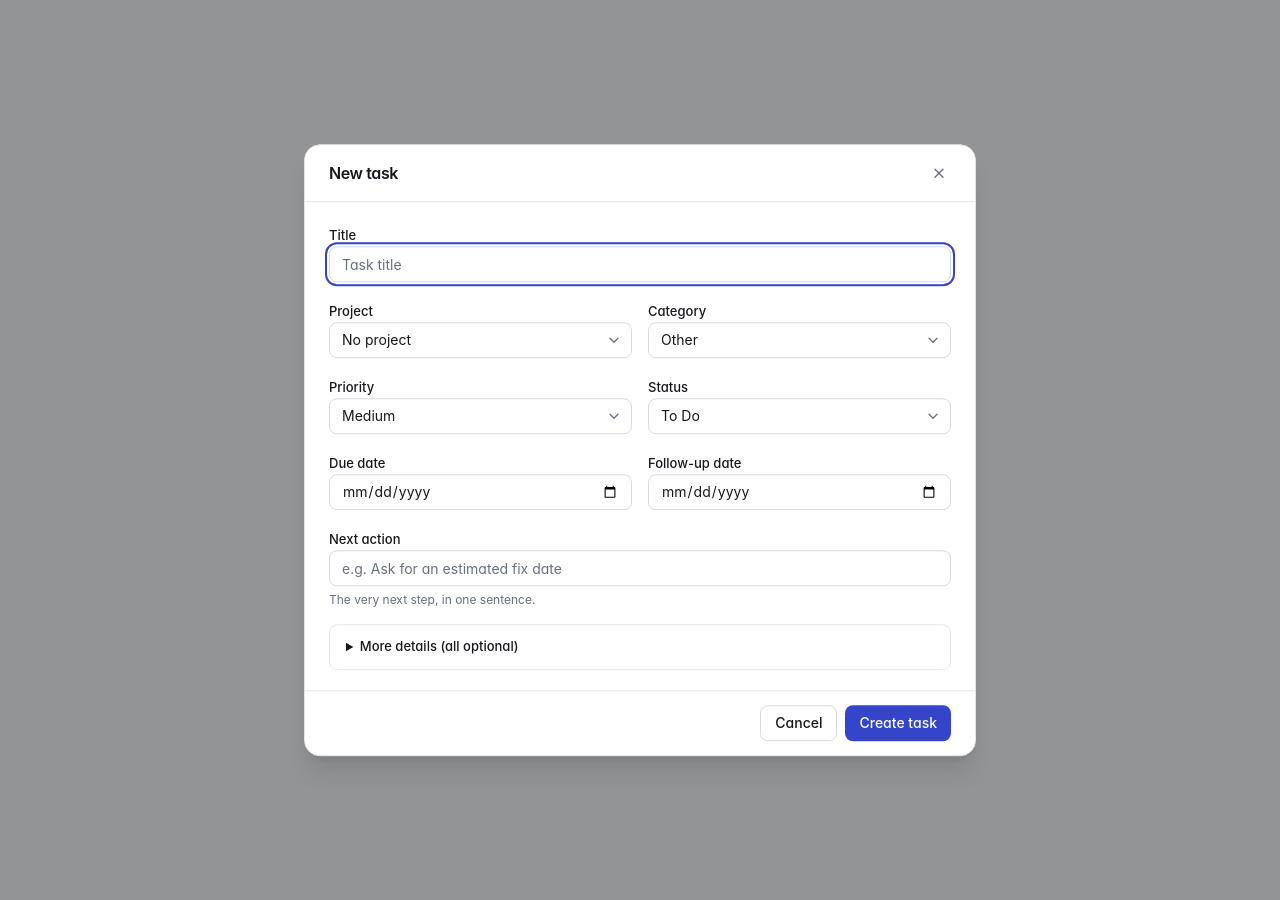
Scenario: TaskFormDialog › requires a blocker description when status is Blocked
The image size is (1280, 900).
Step 1. Type "Vendor compliance" into the field labelled "Title" → (640, 264), box [329,246,951,282]
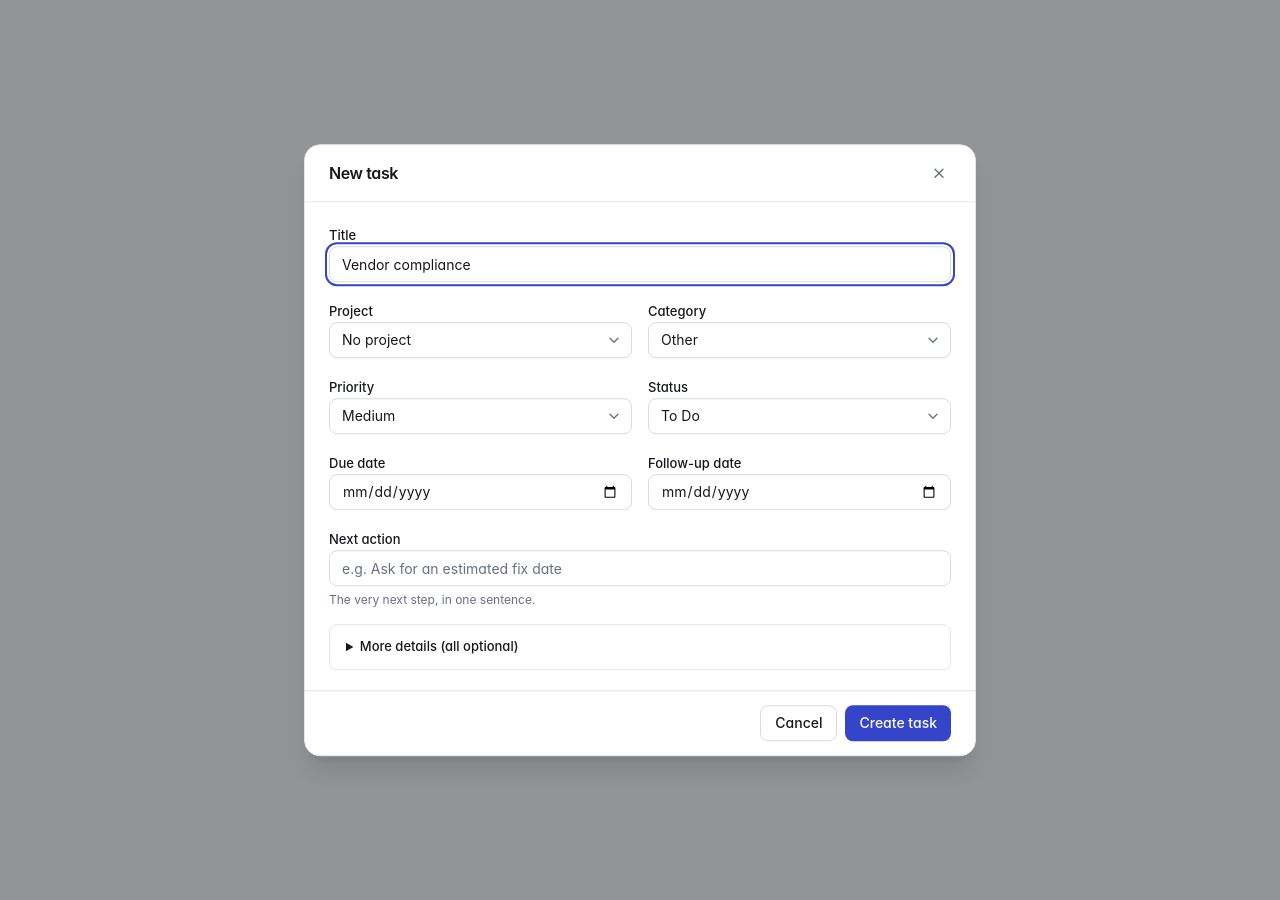
Step 2. Select "Blocked" in the dropdown labelled "Status" → (800, 416), box [648,398,951,434]
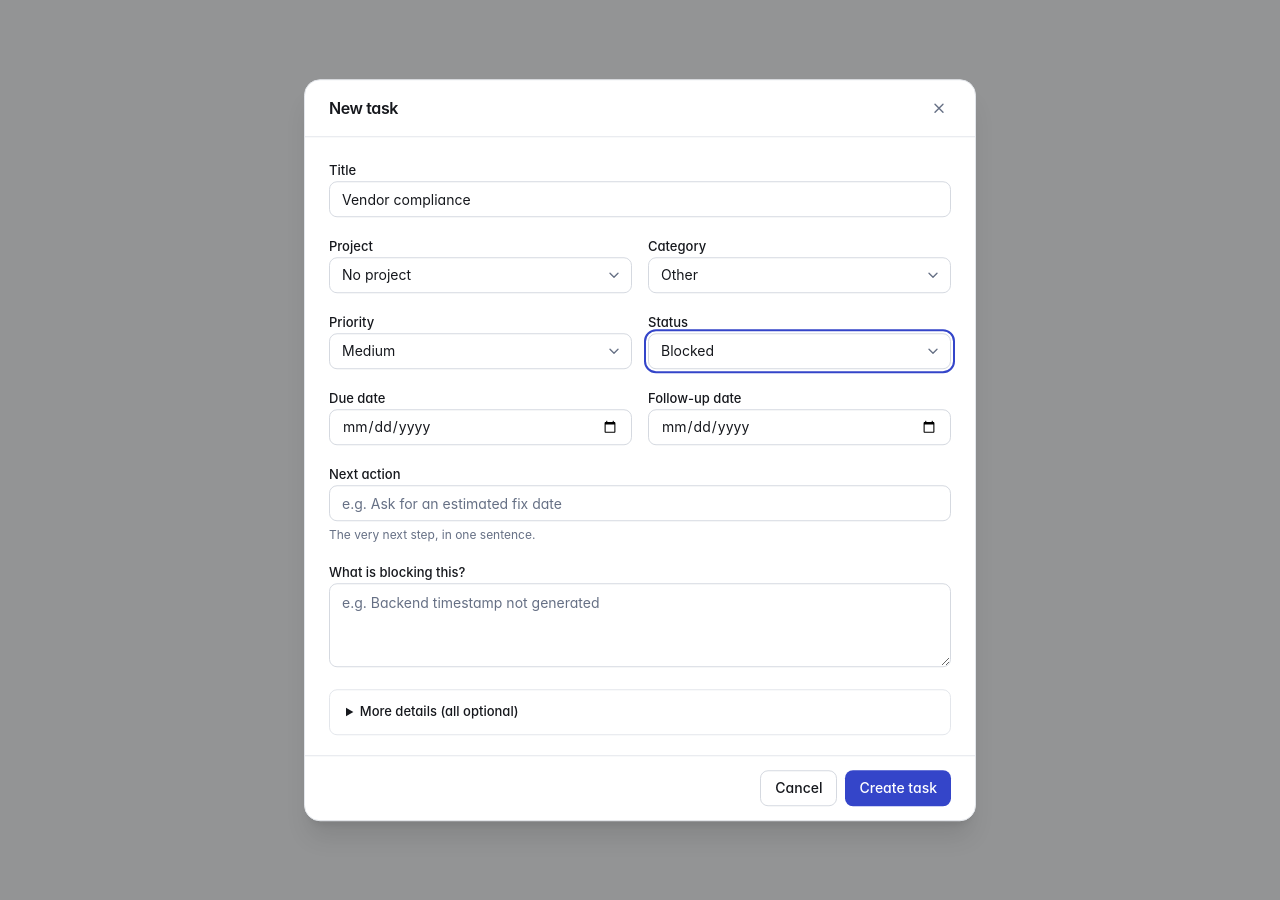
Step 3. Click the button "Create task" → (898, 788), box [846,770,951,806]
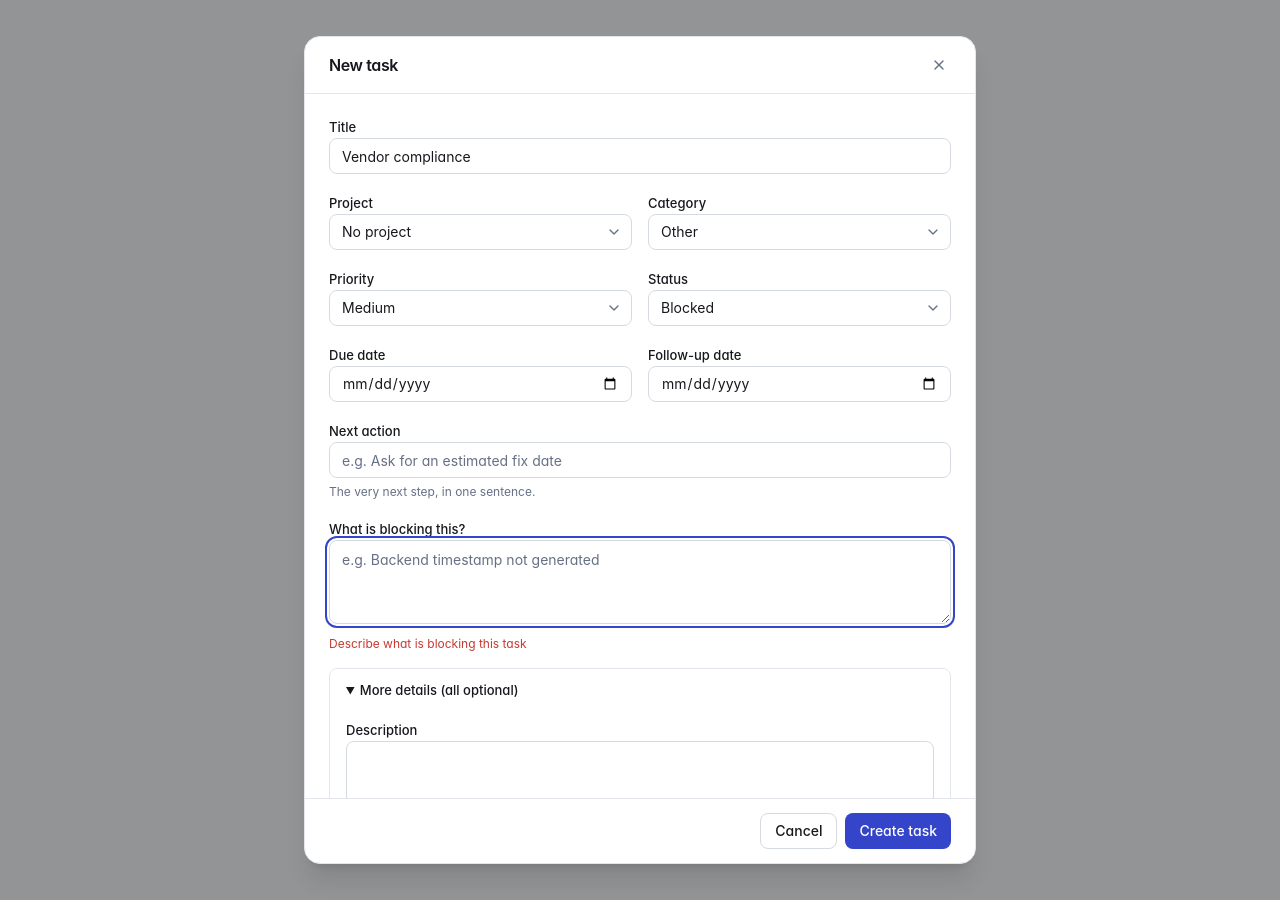
Expected: the text "Describe what is blocking this task" is shown, [329,636,527,651]
